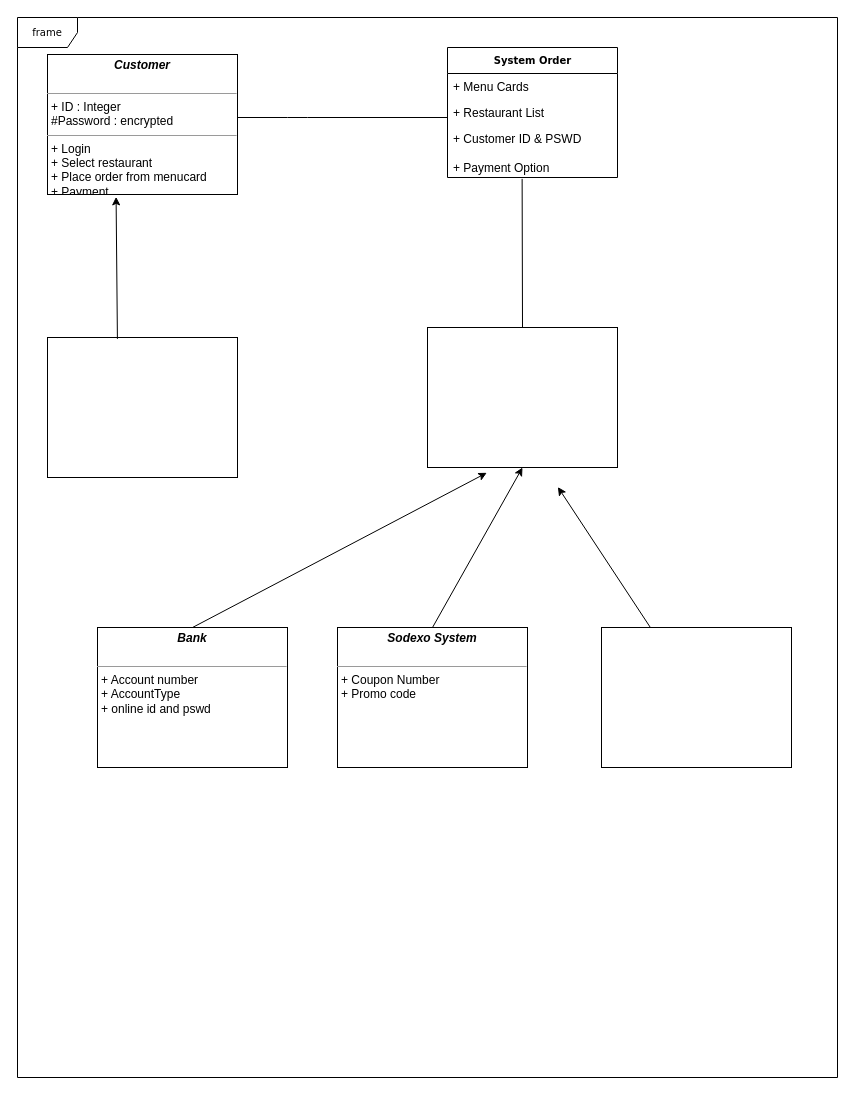
This 855x1095 diagram has some shape labels left out. The shapes that lost their labels are listed below. From the top down, each one's centre as x and y in pixels, then its label:
At [142,407]: "Restaurant + Check the order + Delivered the order".
At [522,397]: "Payment + Amount + Payment Option".
At [696,697]: "Cash on Delivery + Customer Name + Customer Address: + Amount".
